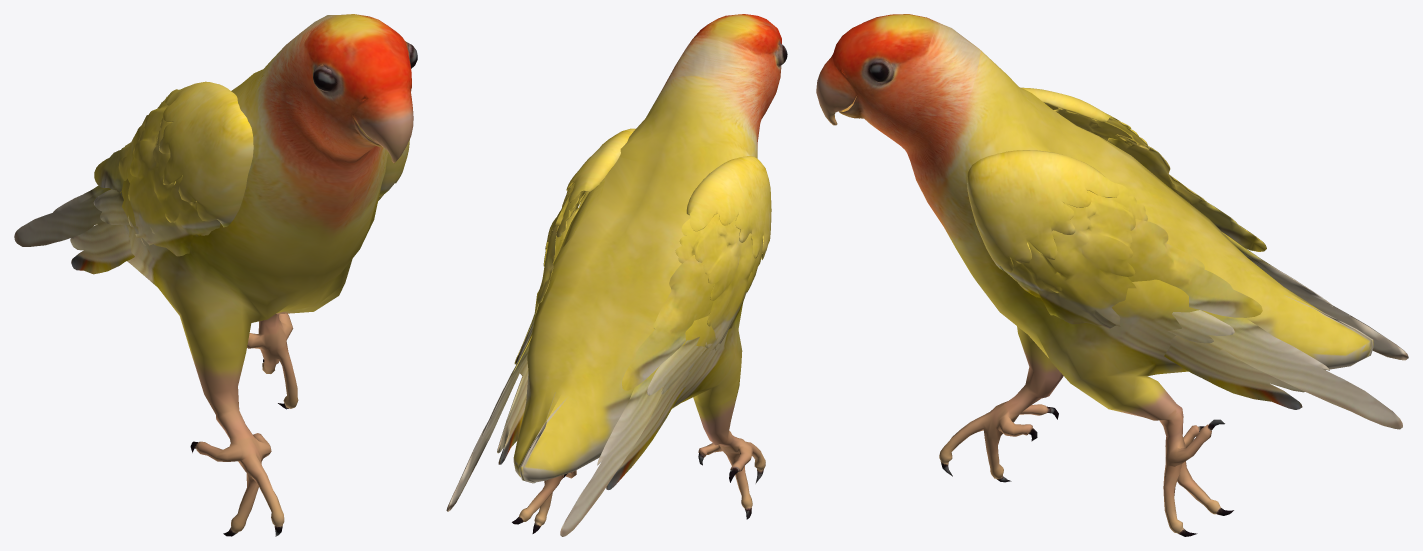
The model's file is lovebird.fbx.
3 renders of one model, left to right at view 1: azimuth 30°, elevation 25°; view 2: azimuth 150°, elevation 25°; view 3: azimuth 270°, elevation 25°, orthographic. The views are drawn at different scales.
Parts seen in each view (by area): view 1: lovebird, Love_wings_R, Love_wings_L; view 2: lovebird, Love_wings_R, Love_wings_L; view 3: lovebird, Love_wings_L, Love_wings_R.
Part boxes in pixels (<box>): lovebird: <box>95,14,417,536</box>; Love_wings_R: <box>14,81,253,274</box>; Love_wings_L: <box>378,139,409,200</box>; lovebird: <box>512,14,787,533</box>; Love_wings_R: <box>560,156,771,536</box>; Love_wings_L: <box>446,128,635,511</box>; lovebird: <box>816,14,1373,536</box>; Love_wings_L: <box>967,150,1402,429</box>; Love_wings_R: <box>1021,87,1408,360</box>.
Bounding box in the file's own units: 989 × 2239 × 2428.
1 material, 1 textured.
